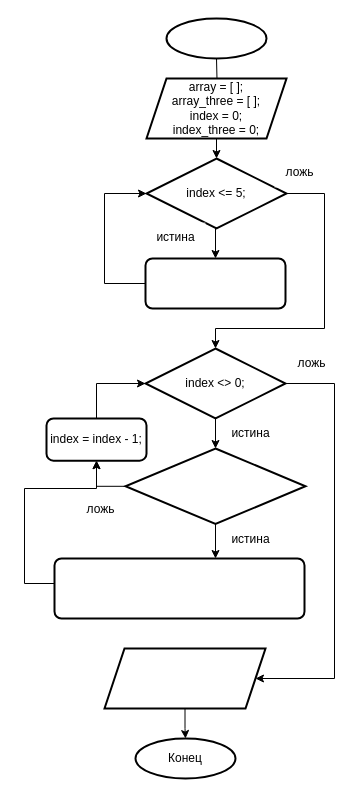
This 360x796 diagram has some shape labels left out. Each missing label, with the box of its shape:
array = ввод[index]; index ++;: (144, 257, 286, 309)
array[index].lenght <= 3;: (124, 447, 306, 524)
array_three[index_three] = array[index]; index_three ++;: (53, 557, 305, 619)
Вывод array_three: (103, 647, 266, 709)
начало: (165, 17, 267, 59)
